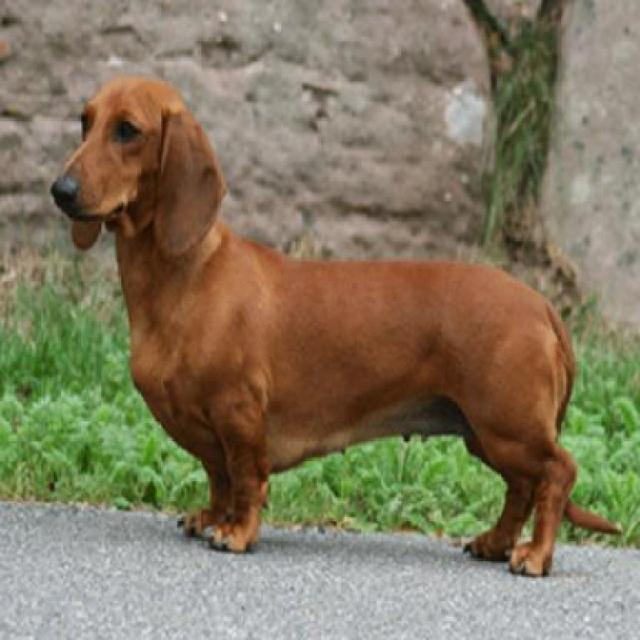Dog: (51, 74, 578, 583)
